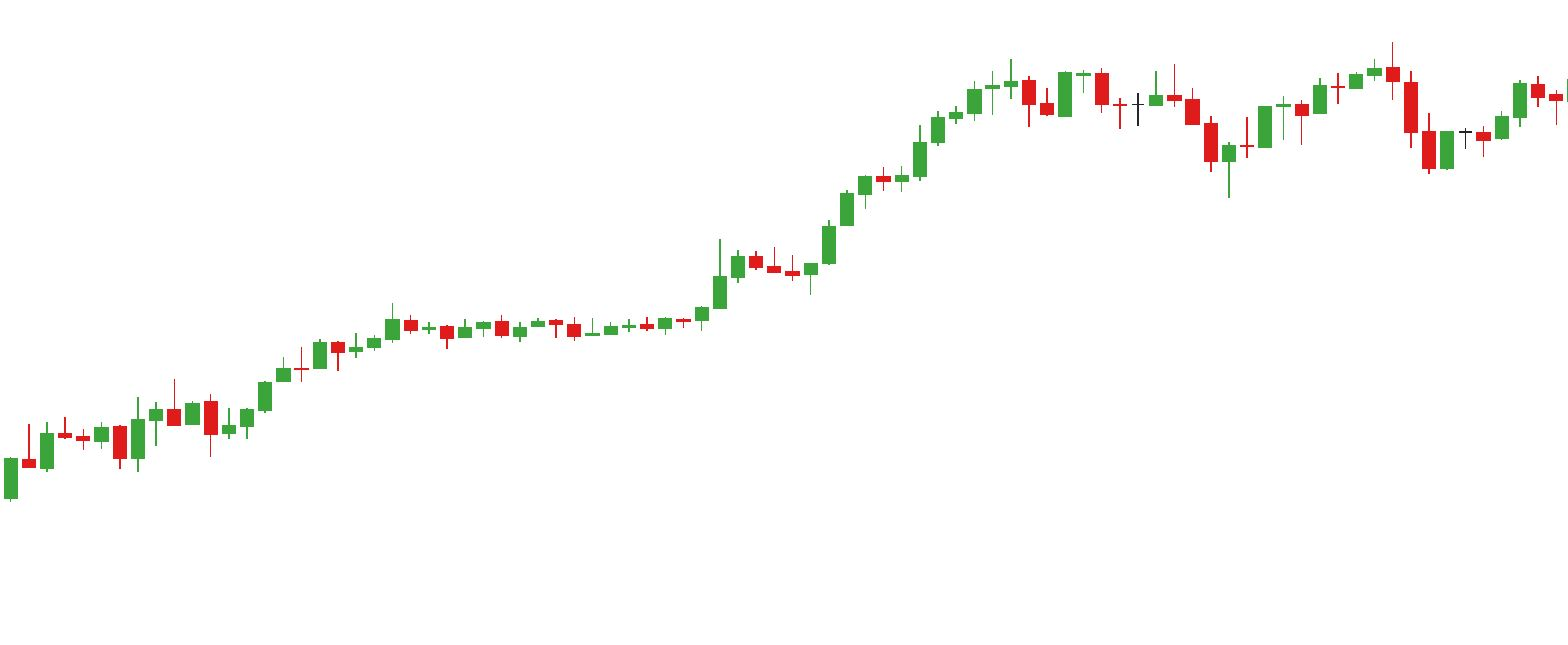buy: (1277, 85, 1459, 176)
